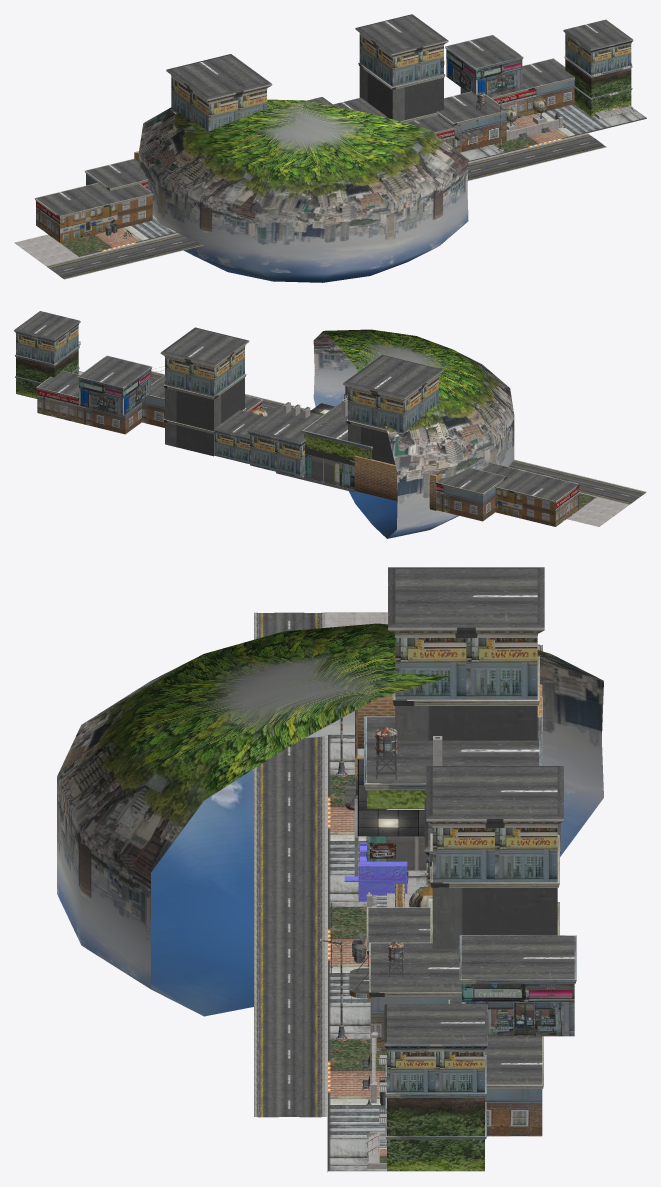
Rendered from Store_Hardware.glb.
3 views of the same model, one above another, from view 1: azimuth 30°, elevation 25°; view 2: azimuth 150°, elevation 25°; view 3: azimuth 270°, elevation 25° (orthographic). The views are drawn at different scales.
Visible parts, largest first — view 1: Store_Hardware; view 2: Store_Hardware; view 3: Store_Hardware.
Boxes of the visible parts, x1,y1,x2,y2 form: Store_Hardware: (14,14,646,282); Store_Hardware: (14,311,646,538); Store_Hardware: (57,567,603,1171).
Size of the model in its own units: 513 by 136 by 212.
Materials: 22 (21 with a texture image).
